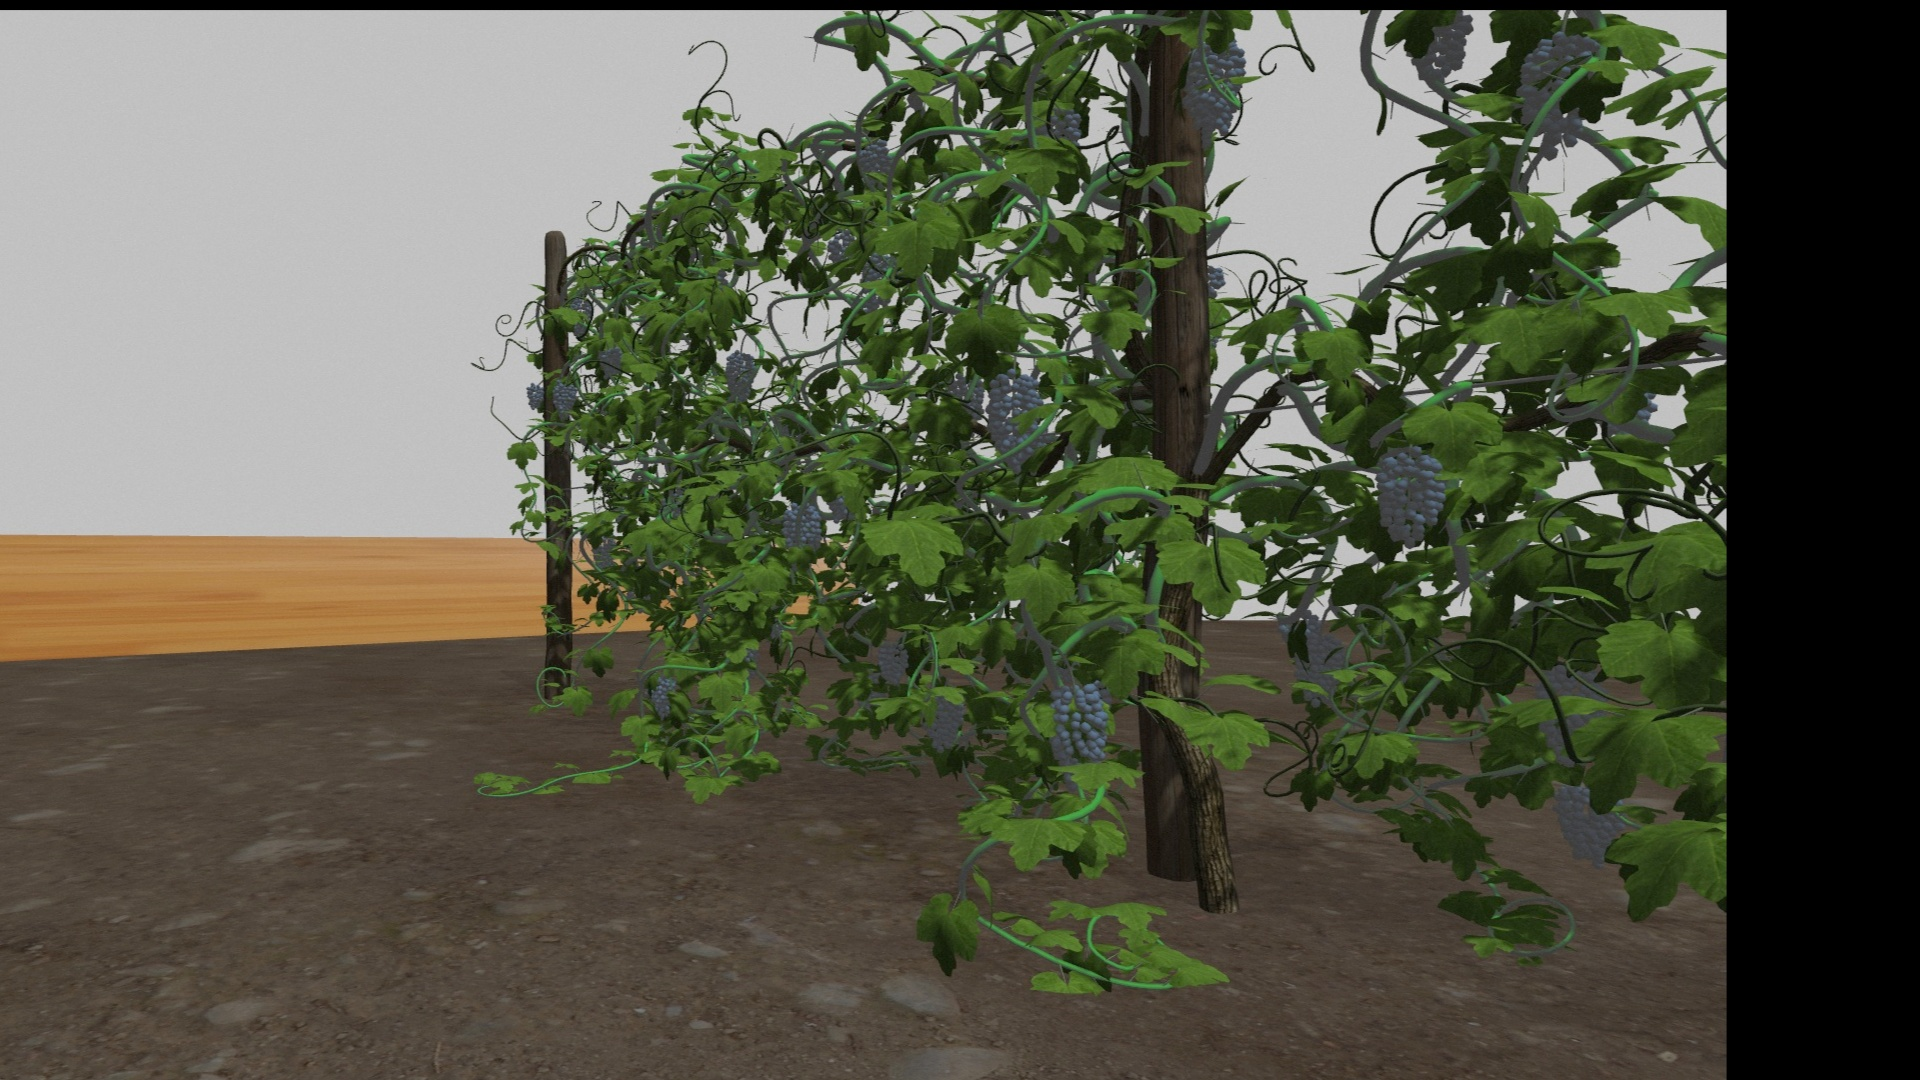grape: (1518, 28, 1597, 164), (1373, 446, 1448, 549), (1552, 779, 1627, 868), (1183, 42, 1245, 142), (985, 369, 1043, 473), (1406, 15, 1473, 86), (1051, 680, 1109, 758), (1288, 637, 1348, 707), (922, 694, 964, 753), (781, 498, 822, 554), (723, 349, 760, 405), (861, 138, 893, 190), (876, 638, 909, 684), (647, 676, 675, 723), (551, 378, 578, 421), (568, 295, 593, 338), (1051, 108, 1081, 141), (825, 229, 856, 262), (591, 537, 617, 571), (599, 344, 622, 378), (525, 381, 545, 409)
